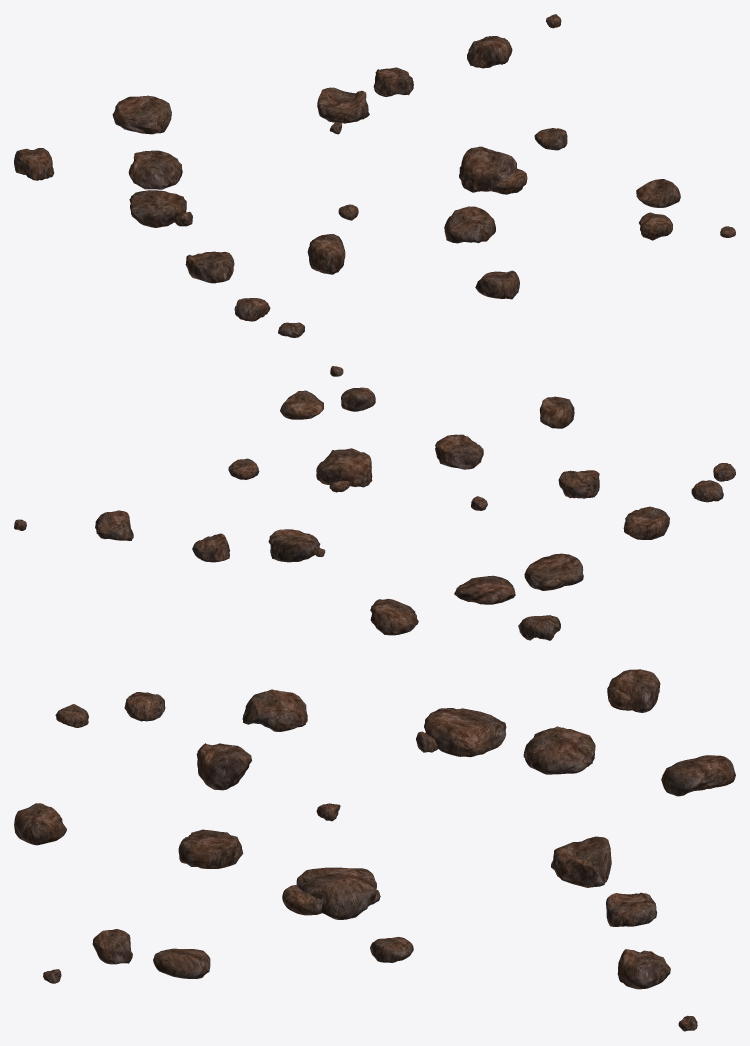
File: shitou_7.fbx
The picture shows the model from 3 angles, top to bottom: view 1: azimuth 30°, elevation 25°; view 2: azimuth 150°, elevation 25°; view 3: azimuth 270°, elevation 25°; orthographic projection. The views are drawn at different scales.
Visible parts, largest first — view 1: bolder95; view 2: bolder95; view 3: bolder95.
Part boxes in pixels (x1,y1,x2,y2): bolder95: (14, 14, 735, 337); bolder95: (14, 366, 735, 640); bolder95: (14, 669, 735, 1031).
Bounding box in the file's own units: 879 × 50.31 × 790.
